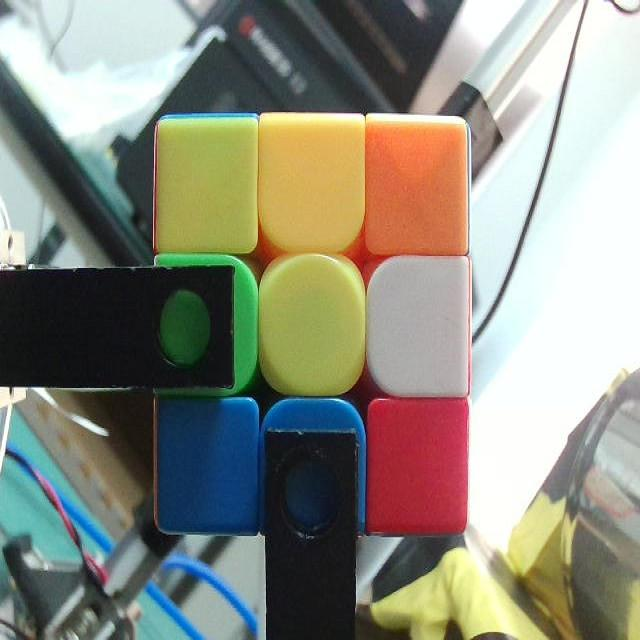b: (261, 399, 370, 540), (158, 402, 259, 539)
g: (158, 255, 261, 396)
o: (366, 112, 469, 255)
r: (370, 404, 470, 536)
w: (366, 258, 470, 401)
y: (262, 260, 362, 394), (157, 119, 258, 251), (259, 122, 363, 246)
